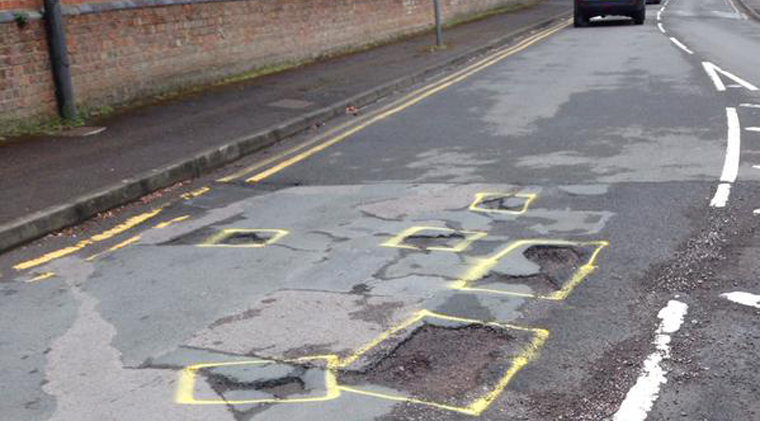pothole: (348, 327, 554, 405), (468, 235, 627, 287), (177, 347, 313, 407), (189, 212, 287, 259), (397, 210, 471, 264), (472, 177, 538, 223)
